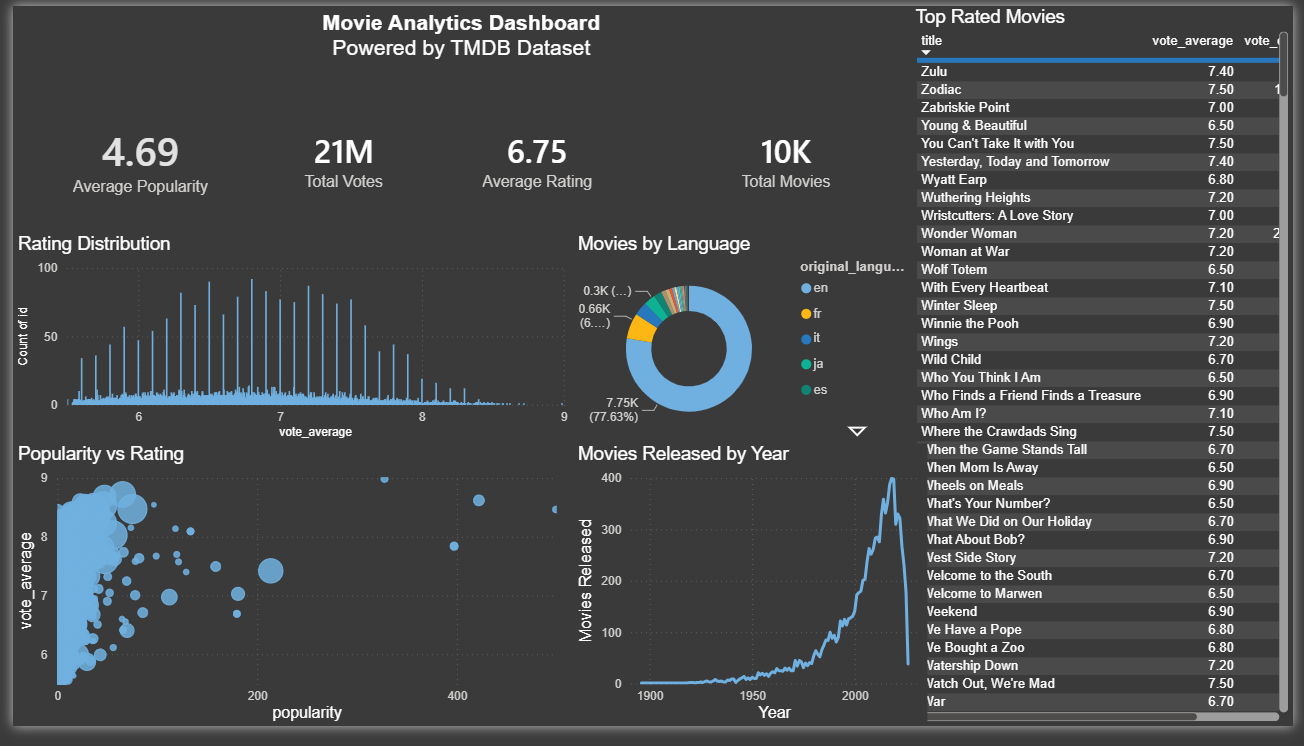

What the dashboard file says about the page in this screenshot:
{"tool":"powerbi","page":{"name":"Page 1","canvas":[1280,720],"ordinal":0},"visuals":[{"type":"textbox","box":[0,0,896.7,76.7],"z":0},{"type":"tableEx","title":"Top Rated Movies","fields":{"Values":["Cleaned_moviesTMBD.title","Cleaned_moviesTMBD.vote_average","Cleaned_moviesTMBD.vote_count","Cleaned_moviesTMBD.popularity"]},"box":[897.1,0,382.9,720],"z":1000},{"type":"cardVisual","fields":{"Data":["Cleaned_moviesTMBD.Total Movies"]},"box":[640,77.1,264.3,150],"z":3000},{"type":"cardVisual","fields":{"Data":["Cleaned_moviesTMBD.Total Votes"]},"box":[253.8,77.5,152.5,150],"z":4000},{"type":"cardVisual","fields":{"Data":["Cleaned_moviesTMBD.Average Popularity"]},"box":[0,77.5,253.8,150],"z":5000},{"type":"cardVisual","fields":{"Data":["Cleaned_moviesTMBD.Average Rating"]},"box":[405.7,77.1,234.3,150],"z":6000},{"type":"lineChart","fields":{"Category":["Cleaned_moviesTMBD.release_date.Variation.Date Hierarchy.Year"],"Y":["CountNonNull(Cleaned_moviesTMBD.id)"]},"box":[560,437.1,354.3,282.9],"z":7000},{"type":"clusteredColumnChart","title":"Rating Distribution","fields":{"Y":["CountNonNull(Cleaned_moviesTMBD.id)"],"Category":["Cleaned_moviesTMBD.vote_average"]},"box":[0,227.1,560,210],"z":8000},{"type":"donutChart","title":"Movies by Language","fields":{"Category":["Cleaned_moviesTMBD.original_language"],"Y":["CountNonNull(Cleaned_moviesTMBD.id)"]},"box":[560,227.1,344.3,210],"z":8001},{"type":"scatterChart","title":"Popularity vs Rating","fields":{"X":["Cleaned_moviesTMBD.popularity"],"Y":["Cleaned_moviesTMBD.vote_average"],"Size":["Sum(Cleaned_moviesTMBD.vote_count)"]},"box":[0,437.1,560,282.9],"z":8002}]}

Visuals, with their boxes in screenshot pixels (x1, y1, x2, y2), scaled from the page's 1280x720 canvas onto the 1304x746 screenshot:
textbox: <bbox>0, 0, 914, 79</bbox>
"Top Rated Movies" tableEx: <bbox>914, 0, 1303, 745</bbox>
cardVisual - Cleaned_moviesTMBD.Total Movies: <bbox>652, 80, 921, 235</bbox>
cardVisual - Cleaned_moviesTMBD.Total Votes: <bbox>259, 80, 414, 236</bbox>
cardVisual - Cleaned_moviesTMBD.Average Popularity: <bbox>0, 80, 259, 236</bbox>
cardVisual - Cleaned_moviesTMBD.Average Rating: <bbox>413, 80, 652, 235</bbox>
lineChart - Cleaned_moviesTMBD.release_date.Variation.Date Hierarchy.Year x CountNonNull(Cleaned_moviesTMBD.id): <bbox>570, 453, 931, 745</bbox>
"Rating Distribution" clusteredColumnChart: <bbox>0, 235, 570, 453</bbox>
"Movies by Language" donutChart: <bbox>570, 235, 921, 453</bbox>
"Popularity vs Rating" scatterChart: <bbox>0, 453, 570, 745</bbox>
